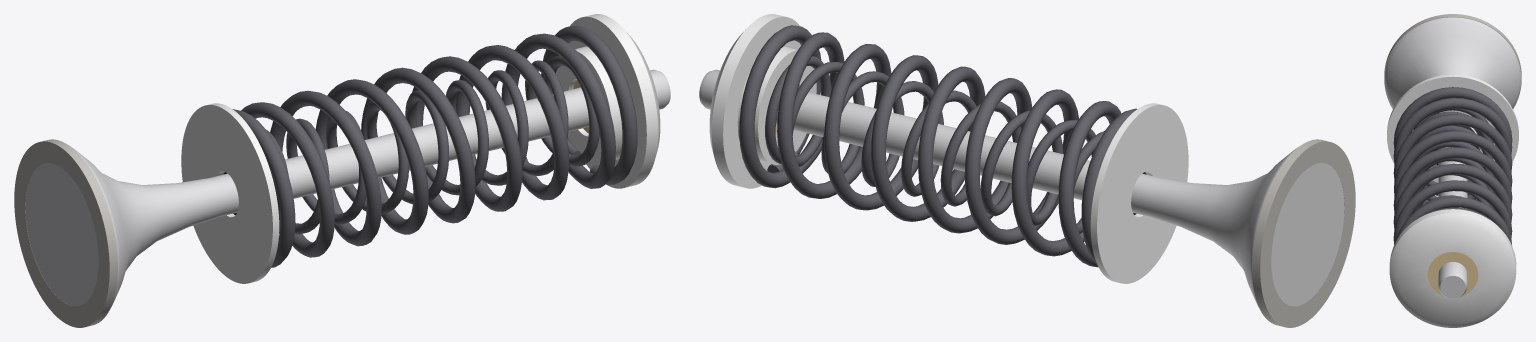
Rendered from valve_in.glb.
3 renders of one model, left to right at view 1: azimuth 30°, elevation 25°; view 2: azimuth 150°, elevation 25°; view 3: azimuth 270°, elevation 25°, orthographic. The views are drawn at different scales.
Visible parts, largest first — view 1: valve_in__spring_outer, valve_in__valve, valve_in__spring_inner, valve_in__seat_washer, valve_in__retainer; view 2: valve_in__spring_outer, valve_in__valve, valve_in__spring_inner, valve_in__seat_washer, valve_in__retainer; view 3: valve_in__spring_outer, valve_in__retainer, valve_in__valve, valve_in__seat_washer, valve_in__spring_inner, valve_in__collets, valve_in__stem_seal.
Boxes of the visible parts, box(x1,y1,x2,y2) form: valve_in__spring_outer: box(232, 25, 637, 267); valve_in__valve: box(14, 69, 670, 327); valve_in__spring_inner: box(266, 55, 599, 234); valve_in__seat_washer: box(181, 103, 279, 283); valve_in__retainer: box(555, 14, 660, 188); valve_in__spring_outer: box(739, 25, 1137, 267); valve_in__valve: box(699, 69, 1355, 327); valve_in__spring_inner: box(765, 56, 1104, 233); valve_in__seat_washer: box(1090, 103, 1188, 283); valve_in__retainer: box(709, 14, 816, 188); valve_in__spring_outer: box(1393, 87, 1512, 244); valve_in__retainer: box(1389, 209, 1516, 327); valve_in__valve: box(1384, 14, 1521, 298); valve_in__seat_washer: box(1387, 74, 1518, 182); valve_in__spring_inner: box(1413, 108, 1493, 212); valve_in__collets: box(1427, 252, 1478, 296); valve_in__stem_seal: box(1435, 112, 1480, 165).
Size of the model in its own units: 9.45 by 2.6 by 2.6.
